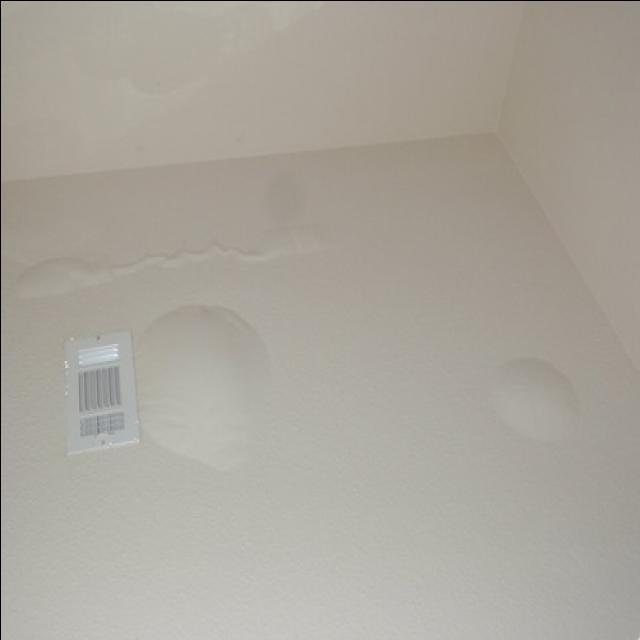tile: (133, 304, 274, 472), (12, 234, 372, 296), (487, 357, 583, 444), (262, 169, 322, 231)
